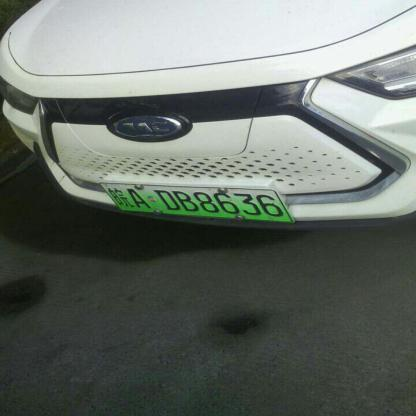lp: (99, 182, 293, 222)
